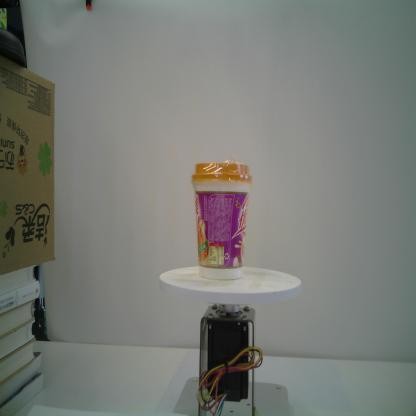Instant Drink: (191, 162, 252, 280)
